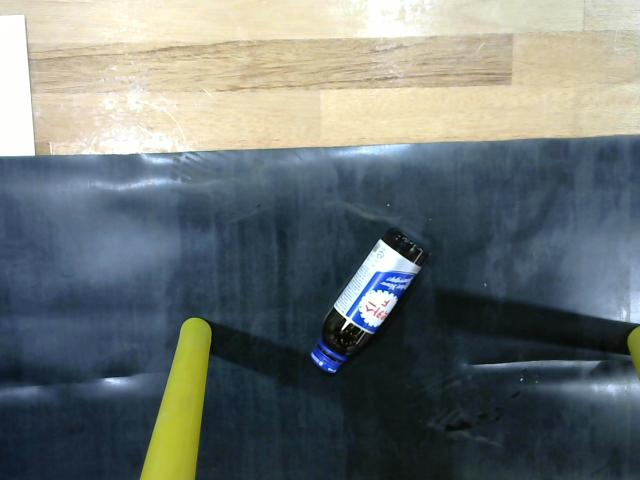glass: (302, 226, 437, 384)
